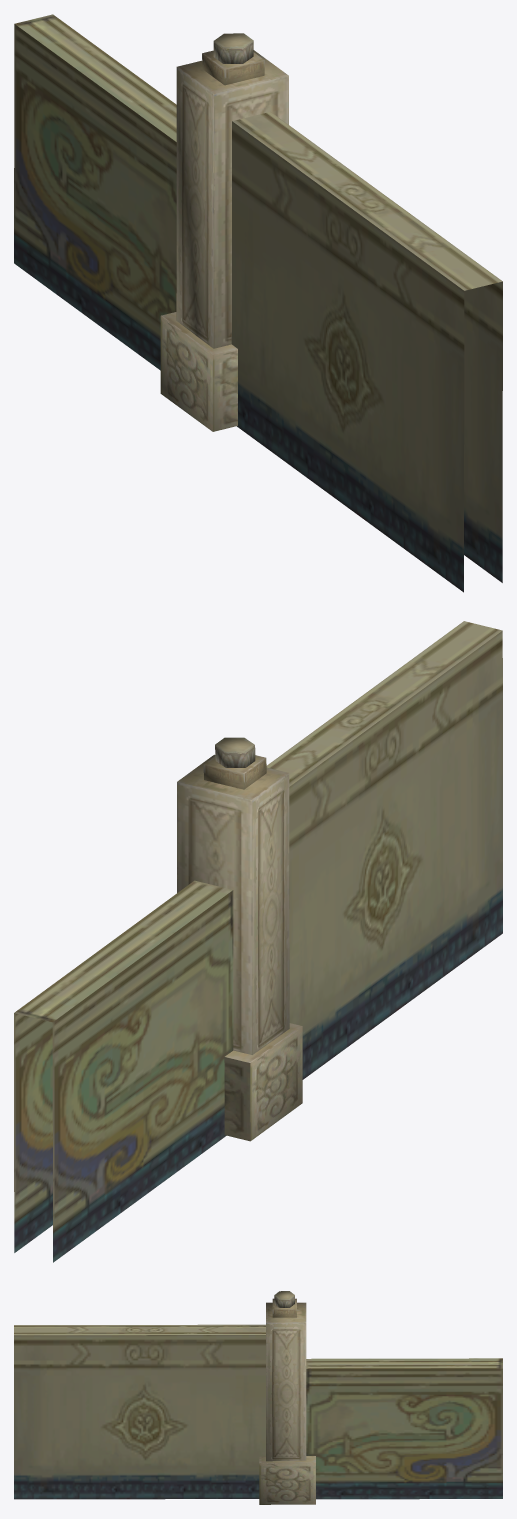
Rendered from environment_Building_qingsangcheng_001_n.FBX.
3 views of the same model, one above another, from view 1: azimuth 30°, elevation 25°; view 2: azimuth 150°, elevation 25°; view 3: azimuth 270°, elevation 25° (orthographic). The views are drawn at different scales.
Parts seen in each view (by area): view 1: environment_Building_qingsangcheng_001_n03, environment_Building_qingsangcheng_001_n02, environment_Building_qingsangcheng_001_n01; view 2: environment_Building_qingsangcheng_001_n03, environment_Building_qingsangcheng_001_n02, environment_Building_qingsangcheng_001_n01; view 3: environment_Building_qingsangcheng_001_n03, environment_Building_qingsangcheng_001_n02, environment_Building_qingsangcheng_001_n01.
Boxes of the visible parts, left/top/right/bottom form: environment_Building_qingsangcheng_001_n03: left=231, top=111, right=502, bottom=592; environment_Building_qingsangcheng_001_n02: left=14, top=14, right=176, bottom=370; environment_Building_qingsangcheng_001_n01: left=160, top=33, right=288, bottom=431; environment_Building_qingsangcheng_001_n03: left=266, top=621, right=502, bottom=1079; environment_Building_qingsangcheng_001_n02: left=14, top=880, right=233, bottom=1262; environment_Building_qingsangcheng_001_n01: left=177, top=737, right=302, bottom=1141; environment_Building_qingsangcheng_001_n03: left=14, top=1324, right=265, bottom=1499; environment_Building_qingsangcheng_001_n02: left=306, top=1358, right=502, bottom=1499; environment_Building_qingsangcheng_001_n01: left=259, top=1291, right=315, bottom=1504.
Size of the model in its own units: 87.68 by 767 by 344.
